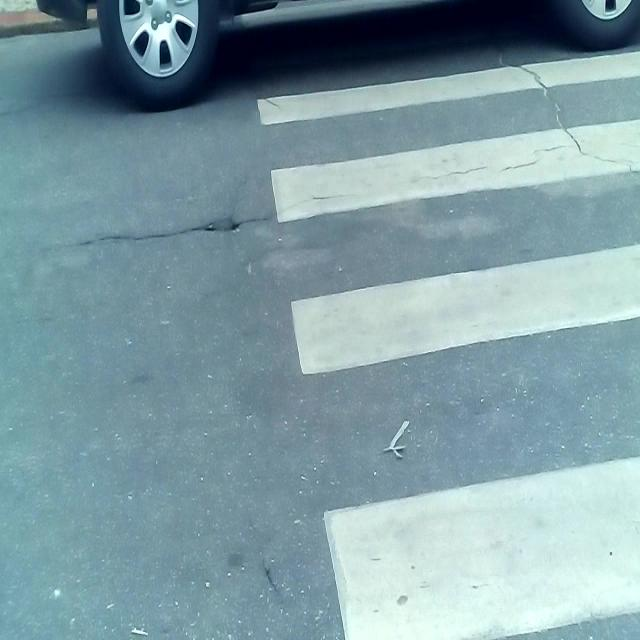crosswalk: (242, 1, 640, 640)
